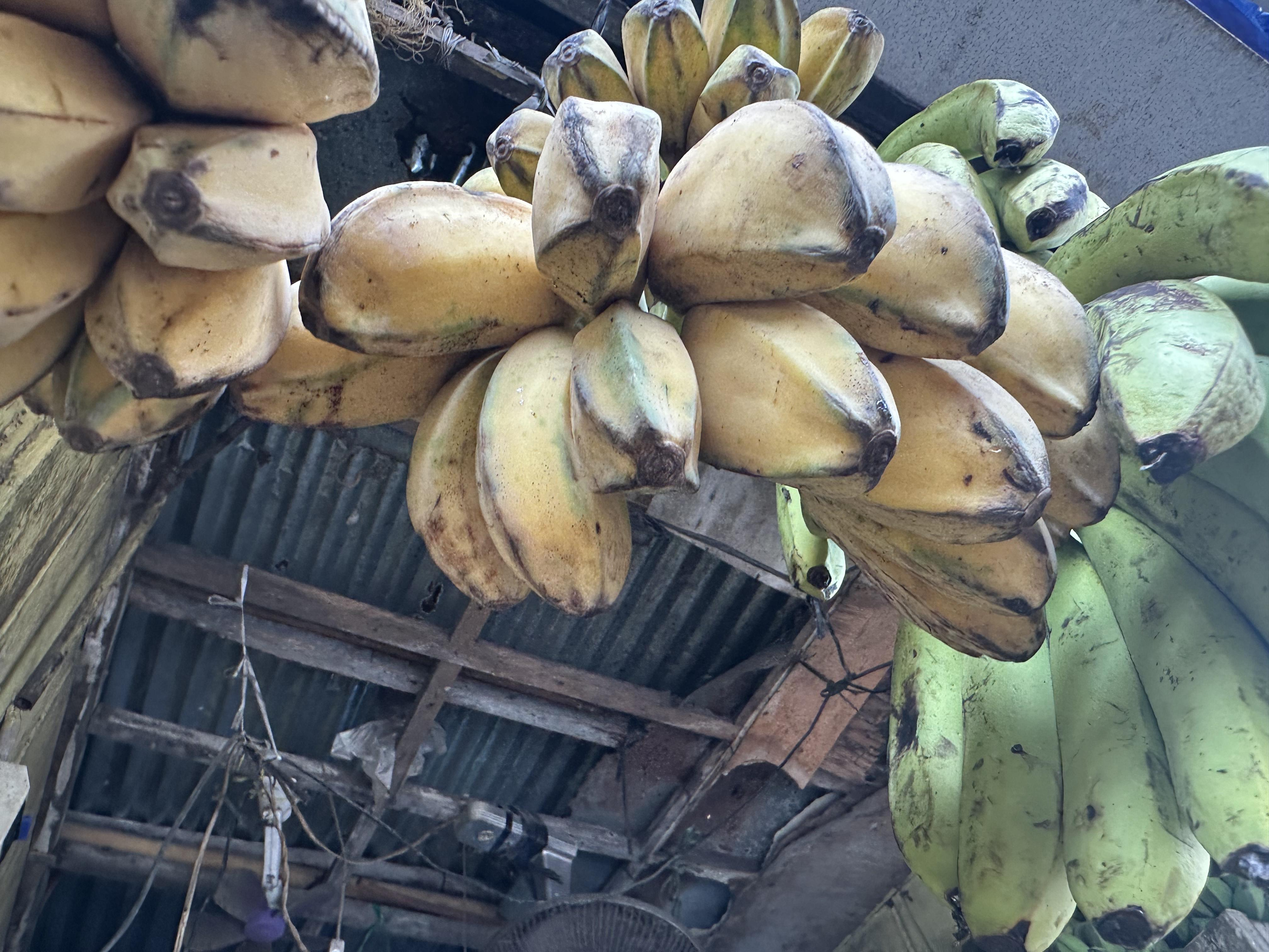ripe: (0, 0, 379, 452)
underripe: (238, 97, 1119, 660), (542, 0, 883, 175)
